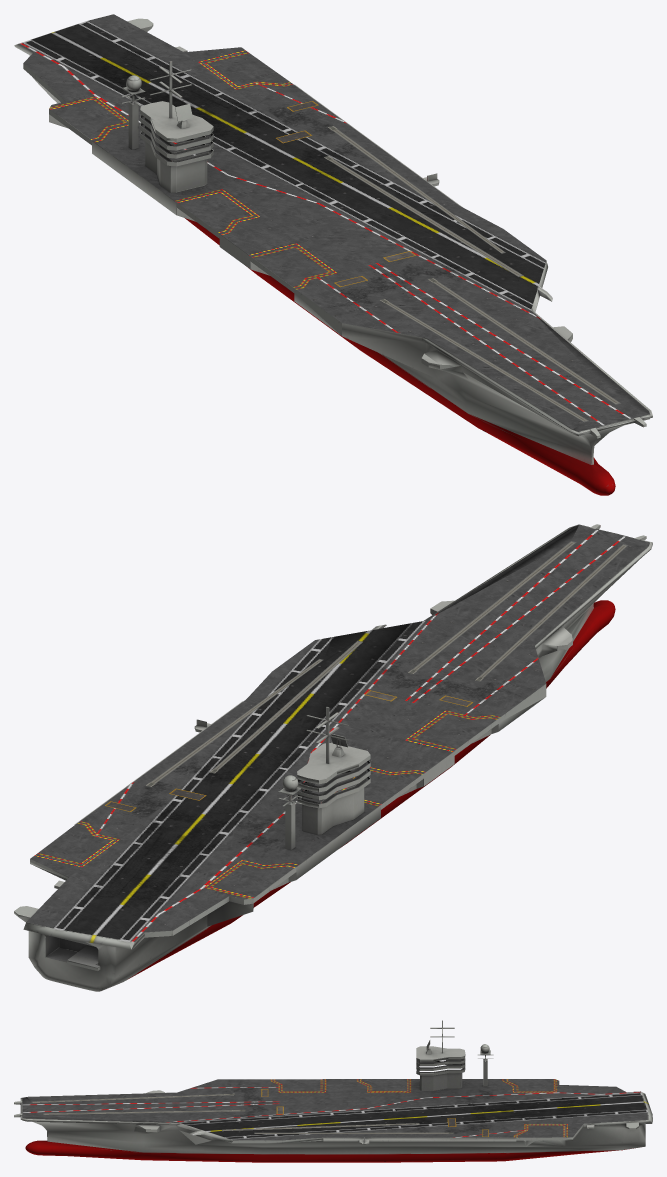
Rendered from nimitz_single_mesh.glb.
3 views of the same model, one above another, from view 1: azimuth 30°, elevation 25°; view 2: azimuth 150°, elevation 25°; view 3: azimuth 270°, elevation 25° (orthographic). The views are drawn at different scales.
Visible parts, largest first — view 1: Nimitz003; view 2: Nimitz003; view 3: Nimitz003.
Part boxes in pixels (box(x1,y1,x2,y2)): Nimitz003: box(14, 14, 652, 495); Nimitz003: box(14, 524, 652, 991); Nimitz003: box(14, 1020, 652, 1162).
Size of the model in its own units: 12.51 by 10.51 by 54.1.
Materials: 1 (1 with a texture image).
